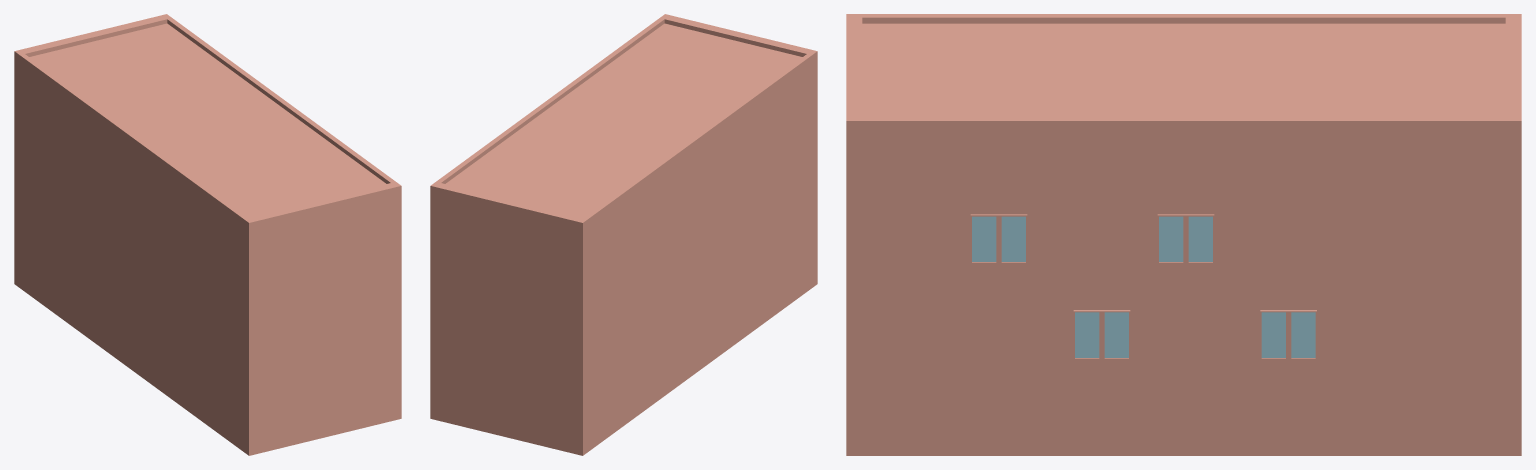
File: Bâtiment_5.fbx
The picture shows the model from 3 angles, left to right: view 1: azimuth 30°, elevation 25°; view 2: azimuth 150°, elevation 25°; view 3: azimuth 270°, elevation 25°; orthographic projection. The views are drawn at different scales.
Parts seen in each view (by area): view 1: Cube; view 2: Cube; view 3: Cube.
Part boxes in pixels (box(x1,y1,x2,y2)): Cube: box(14, 14, 401, 455); Cube: box(430, 14, 817, 455); Cube: box(846, 14, 1521, 455).
Bounding box in the file's own units: 606 × 876 × 1600.
